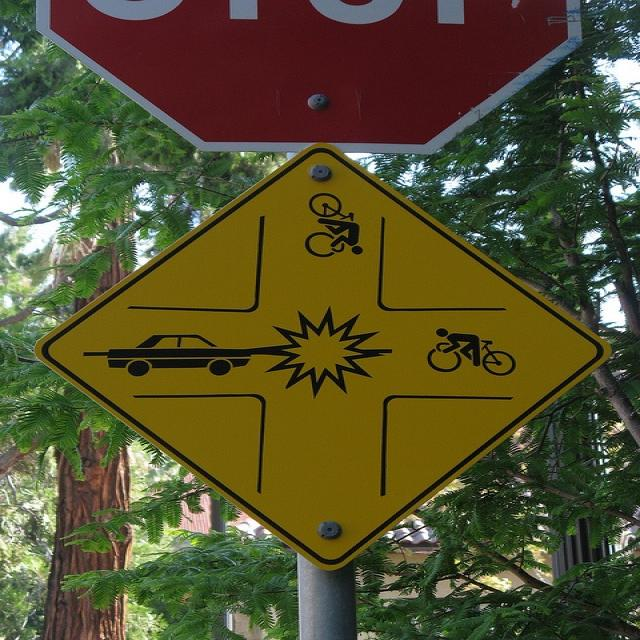bicycle: (299, 191, 356, 257), (425, 340, 515, 375)
